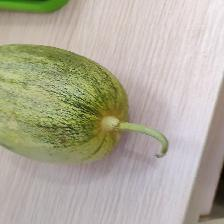gua: (25, 63, 133, 161)
